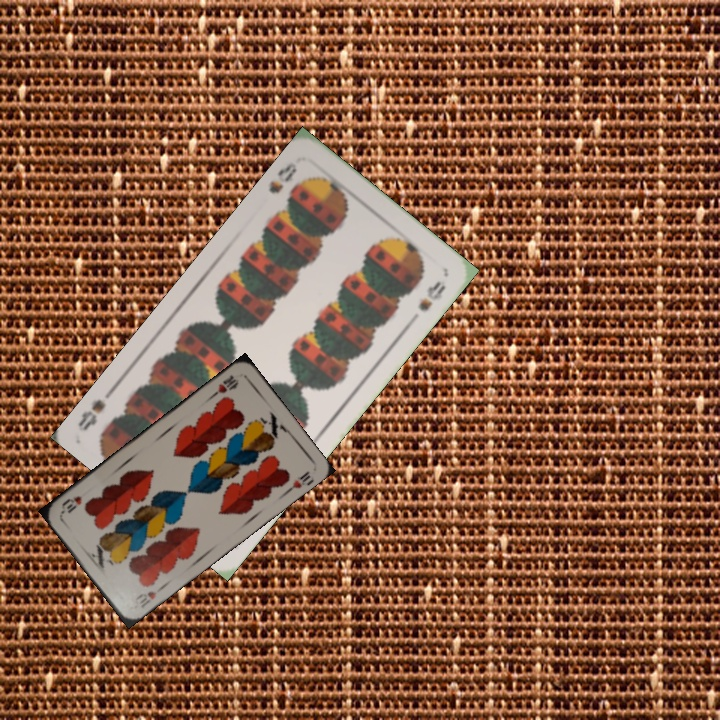H10: (207, 371, 241, 400), (131, 582, 166, 610)
S8: (265, 158, 300, 197)
